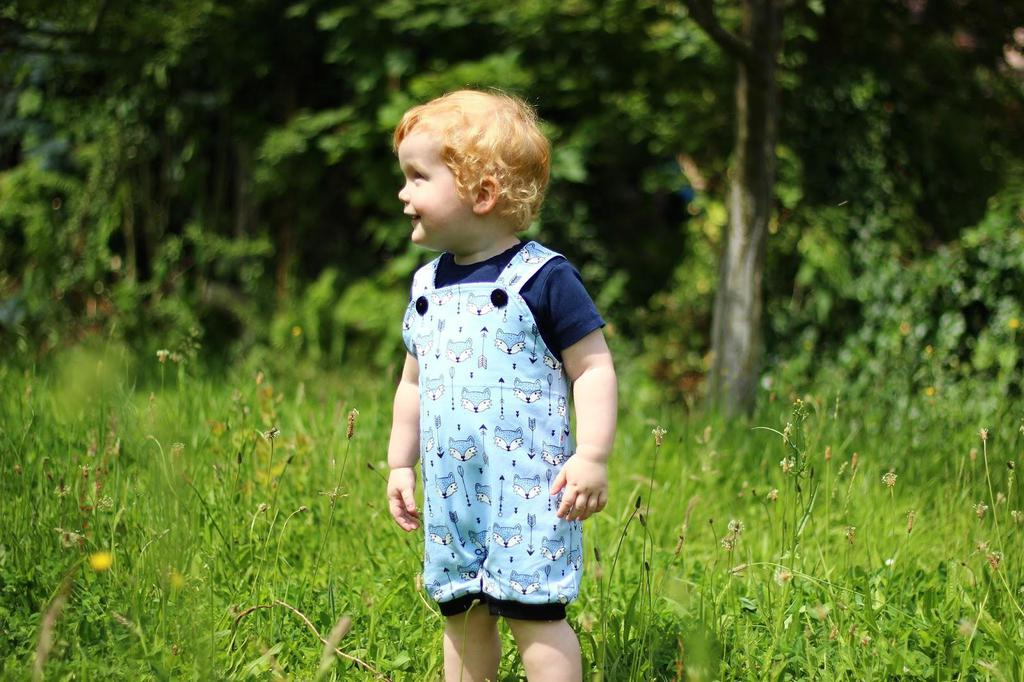child: (320, 77, 644, 682)
